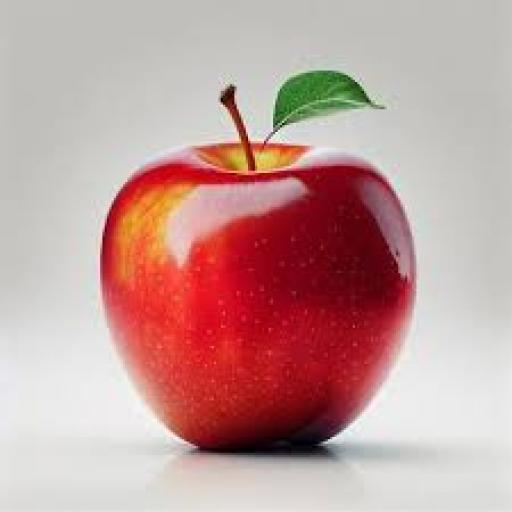Apple: (103, 144, 414, 448)
